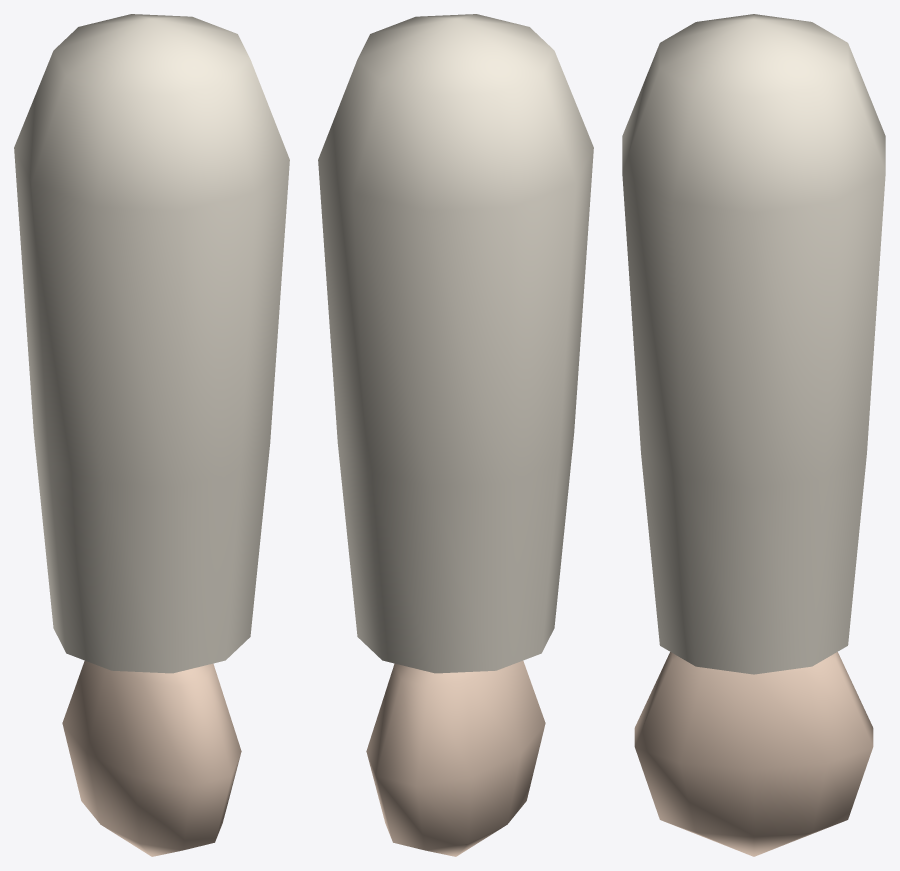
The model's file is lower_arm.glb.
3 views of the same model, side by side, from view 1: azimuth 30°, elevation 25°; view 2: azimuth 150°, elevation 25°; view 3: azimuth 270°, elevation 25° (orthographic).
Parts seen in each view (by area): view 1: lower_arm; view 2: lower_arm; view 3: lower_arm.
Part boxes in pixels (<box>): lower_arm: <box>14,14,289,856</box>; lower_arm: <box>318,14,593,856</box>; lower_arm: <box>622,14,885,856</box>.
Size of the model in its own units: 0.084 by 0.28 by 0.0799.
